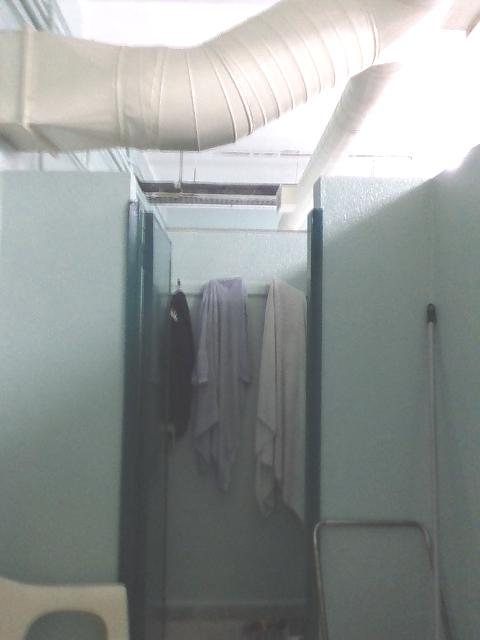open_door: (129, 175, 320, 639)
